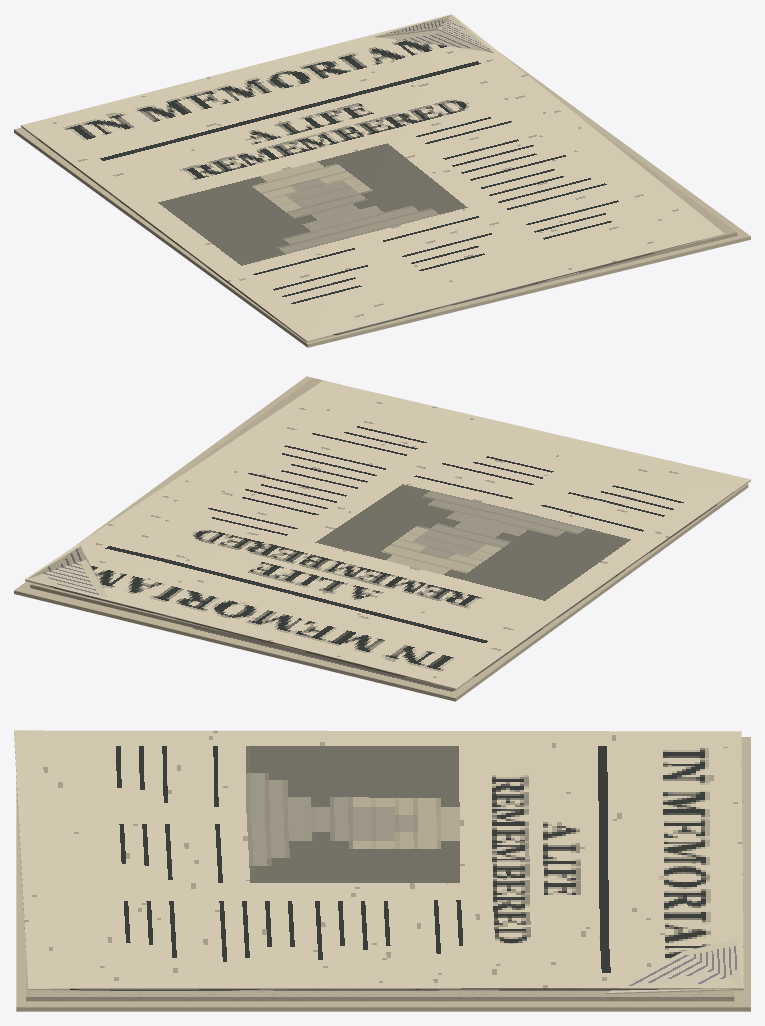
File: newspaper_memorial.glb
3 renders of one model, top to bottom at view 1: azimuth 30°, elevation 25°; view 2: azimuth 150°, elevation 25°; view 3: azimuth 270°, elevation 25°, orthographic. The views are drawn at different scales.
Parts seen in each view (by area): view 1: block_front page, block_lower fold, block_creased top corner, block_interior edges; view 2: block_front page, block_lower fold, block_interior edges, block_creased top corner; view 3: block_front page, block_lower fold, block_interior edges, block_creased top corner.
Boxes of the visible parts, x1,y1,x2,y2 form: block_front page: (21,14,724,342); block_lower fold: (14,50,750,347); block_creased top corner: (374,15,493,52); block_interior edges: (468,120,737,301); block_front page: (25,380,750,690); block_lower fold: (14,376,748,701); block_interior edges: (30,378,454,691); block_creased top corner: (27,546,108,597); block_front page: (14,730,743,990); block_lower fold: (16,737,750,1011); block_interior edges: (26,952,734,1001); block_creased top corner: (606,940,743,994).
Bounding box in the file's own units: 0.271 × 0.0152 × 0.311.
Materials: 1 (1 with a texture image).
